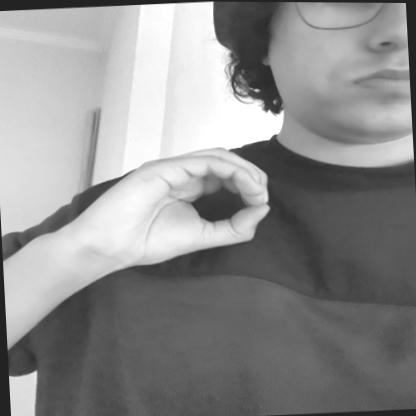O: (88, 135, 275, 279)
